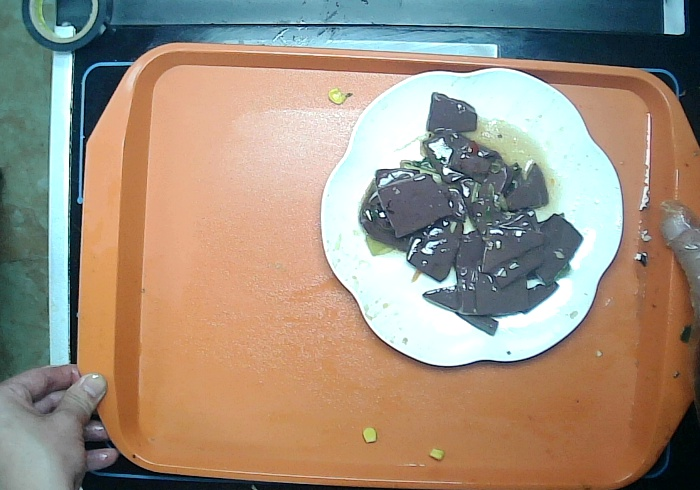HZYJPL-Bai_Se_Hua_Duo_Wan: (319, 65, 625, 373)
